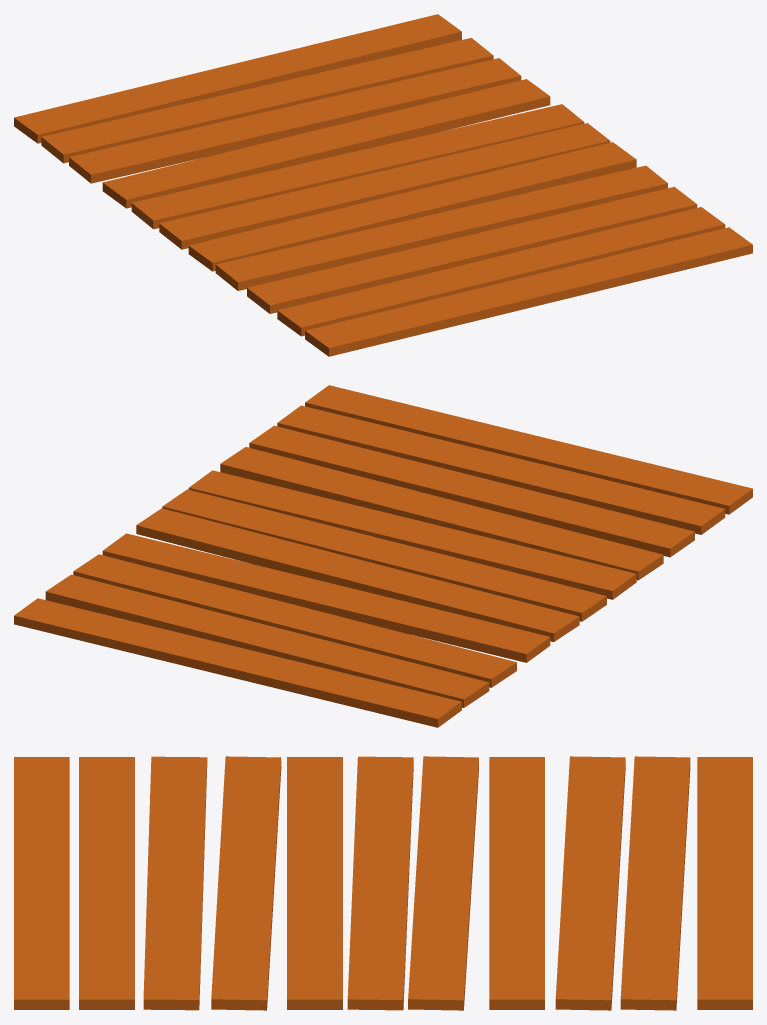
The model's file is walking_planks_straight.fbx.
The picture shows the model from 3 angles, top to bottom: view 1: azimuth 30°, elevation 25°; view 2: azimuth 150°, elevation 25°; view 3: azimuth 270°, elevation 25°; orthographic projection. The views are drawn at different scales.
Parts seen in each view (by area): view 1: Cube.001; view 2: Cube.001; view 3: Cube.001.
Boxes of the visible parts, x1,y1,x2,y2 form: Cube.001: (14,14,752,356); Cube.001: (14,385,752,727); Cube.001: (14,756,752,1010).
Bounding box in the file's own units: 162 × 3.19 × 208.
